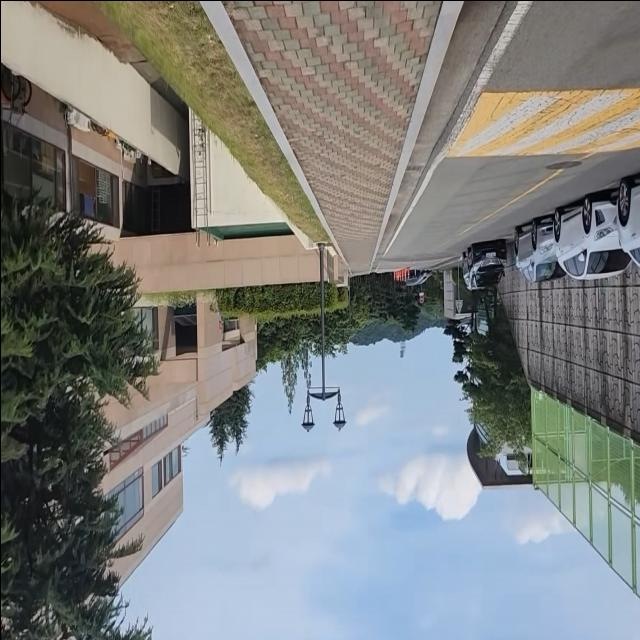road: (371, 0, 640, 268)
sidewalk: (208, 0, 463, 272)
